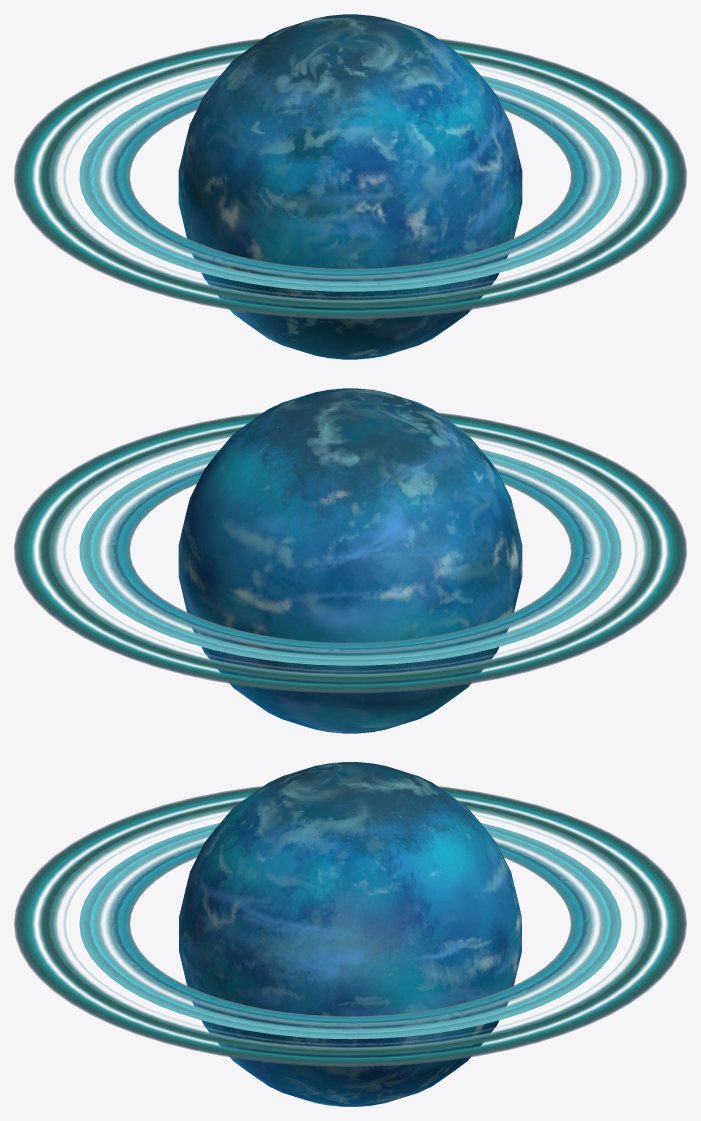
The model's file is urano.glb.
3 views of the same model, one above another, from view 1: azimuth 30°, elevation 25°; view 2: azimuth 150°, elevation 25°; view 3: azimuth 270°, elevation 25° (orthographic).
Visible parts, largest first — view 1: New, Tube002; view 2: New, Tube002; view 3: New, Tube002.
Part boxes in pixels (<box>): New: <box>178,14,522,359</box>; Tube002: <box>14,38,686,319</box>; New: <box>178,388,522,733</box>; Tube002: <box>14,412,686,693</box>; New: <box>179,762,521,1106</box>; Tube002: <box>14,786,686,1066</box>.
Bounding box in the file's own units: 2.38 × 1.22 × 2.38.
Materials: 2 (2 with a texture image).
